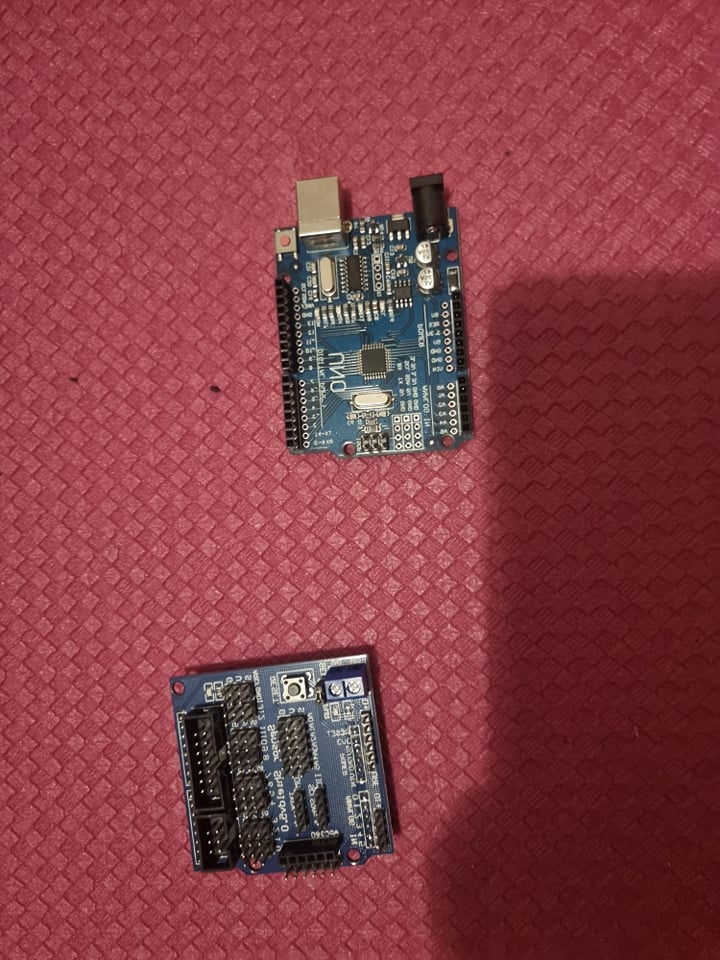5V EXPANSION: (170, 649, 409, 886)
UNO R3: (271, 168, 473, 459)
